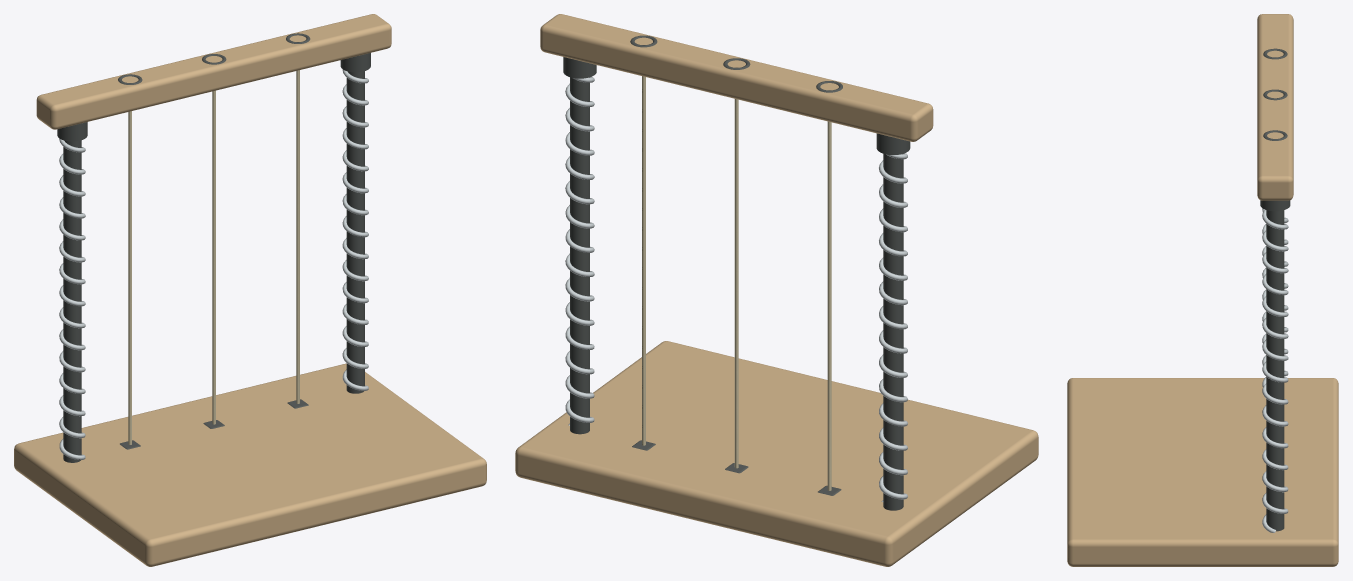
The model's file is bookbinding-and-paper-mill-sewing-frame-e3dbd33a__30564.glb.
The picture shows the model from 3 angles, left to right: view 1: azimuth 30°, elevation 25°; view 2: azimuth 150°, elevation 25°; view 3: azimuth 270°, elevation 25°; orthographic projection. The views are drawn at different scales.
Parts seen in each view (by area): view 1: sewing-frame; view 2: sewing-frame; view 3: sewing-frame.
Part boxes in pixels (x1=…): sewing-frame: x1=14, y1=14, x2=486, y2=566; sewing-frame: x1=515, y1=14, x2=1038, y2=566; sewing-frame: x1=1067, y1=14, x2=1338, y2=566.
Size of the model in its own units: 0.65 by 0.717 by 0.45.
